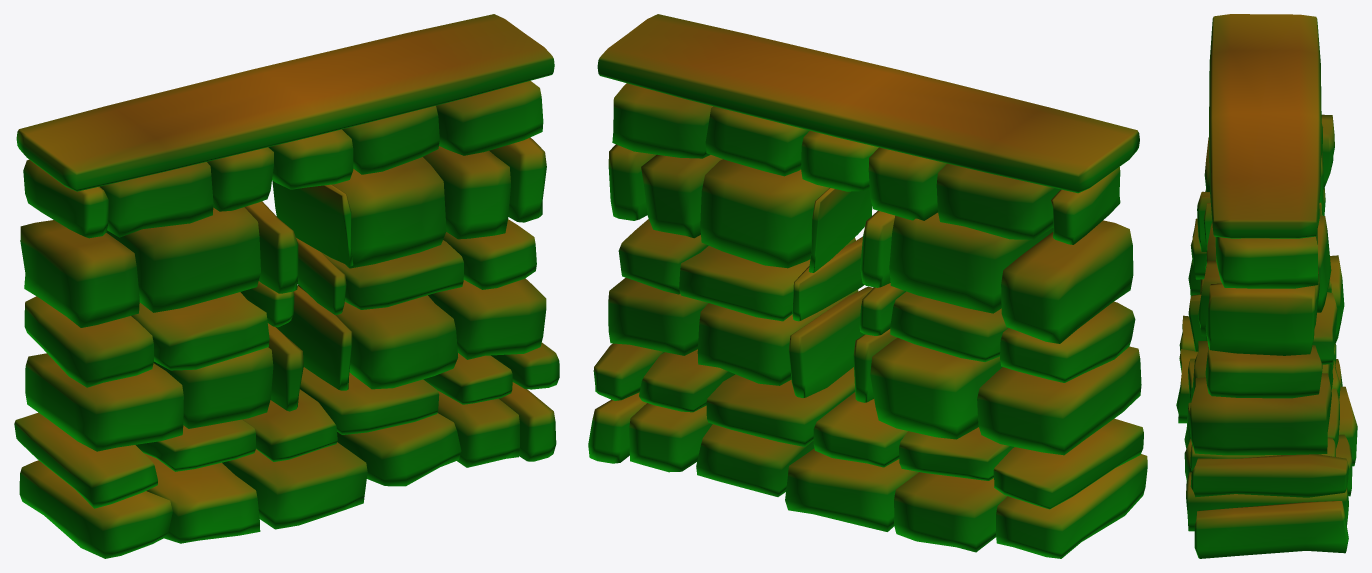
File: tidewall_windgap.glb
3 views of the same model, side by side, from view 1: azimuth 30°, elevation 25°; view 2: azimuth 150°, elevation 25°; view 3: azimuth 270°, elevation 25° (orthographic). The views are drawn at different scales.
Parts seen in each view (by area): view 1: tidewall_windgap; view 2: tidewall_windgap; view 3: tidewall_windgap.
Boxes of the visible parts, bbox=[...] form: tidewall_windgap: bbox=[14, 14, 559, 558]; tidewall_windgap: bbox=[588, 14, 1147, 558]; tidewall_windgap: bbox=[1176, 14, 1357, 558].
Size of what is drawn, in the model's own units: 2.06 by 1.63 by 0.7615.
